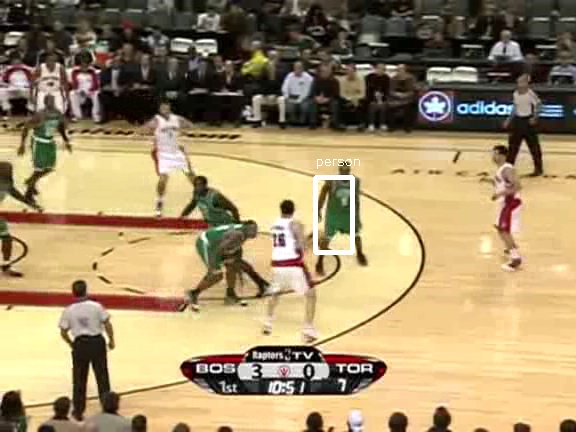person: (328, 167, 362, 248), (327, 167, 361, 248), (329, 167, 363, 248), (328, 166, 362, 247), (328, 168, 362, 249)
target_negative: (240, 8, 519, 199), (381, 160, 417, 421), (425, 355, 446, 385), (511, 411, 536, 432), (564, 294, 565, 411), (515, 242, 516, 266)
